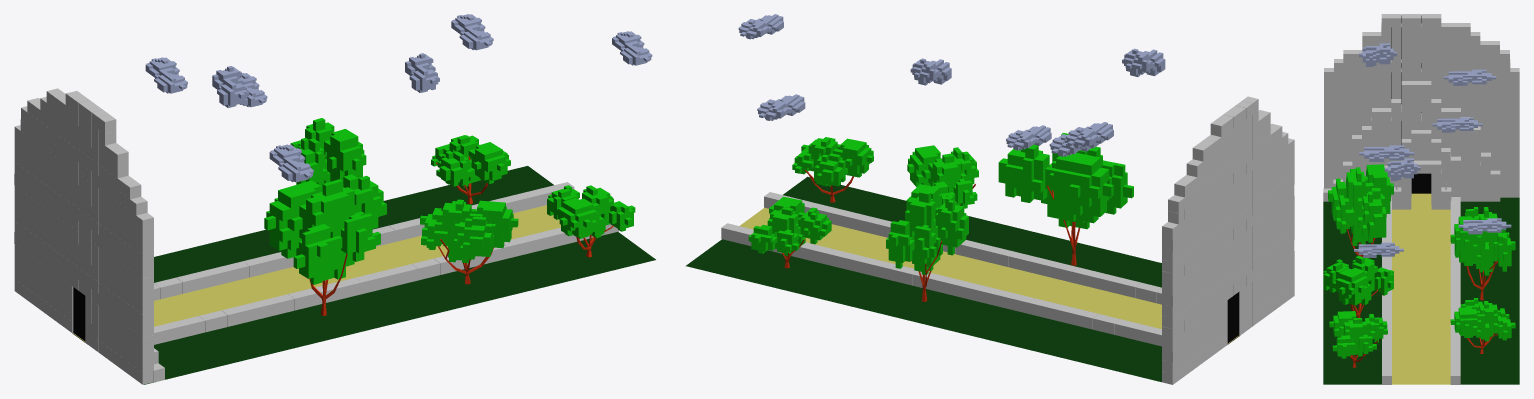
The model's file is forest1.obj.
The picture shows the model from 3 angles, left to right: view 1: azimuth 30°, elevation 25°; view 2: azimuth 150°, elevation 25°; view 3: azimuth 270°, elevation 25°; orthographic projection. The views are drawn at different scales.
Visible parts, largest first — view 1: Plane_Plane, Plane.005_Plane.007, Sphere.010_Sphere.010, Plane.004_Plane.006, Sphere.009_Sphere.005, Sphere.004_Sphere.001, Sphere.012_Sphere.012, Sphere.011_Sphere.011, Sphere.005_Sphere.006, Sphere.001_Sphere.002, Sphere.002_Sphere.003, Sphere_Sphere (+4 smaller); view 2: Plane_Plane, Plane.004_Plane.006, Sphere.010_Sphere.010, Sphere.012_Sphere.012, Plane.005_Plane.007, Sphere.011_Sphere.011, Sphere.009_Sphere.005, Sphere.004_Sphere.001, Sphere.001_Sphere.002, Sphere_Sphere, Sphere.002_Sphere.003, Sphere.007_Sphere.008 (+3 smaller); view 3: Plane.004_Plane.006, Plane_Plane, Plane.005_Plane.007, Sphere.010_Sphere.010, Sphere.012_Sphere.012, Sphere.009_Sphere.005, Sphere.004_Sphere.001, Sphere.011_Sphere.011, Sphere.005_Sphere.006, Sphere.001_Sphere.002, Sphere.002_Sphere.003, Sphere_Sphere (+5 smaller).
Boxes of the visible parts, left/top/right/bottom form: Plane_Plane: left=144, top=166, right=655, bottom=384; Plane.005_Plane.007: left=147, top=216, right=655, bottom=383; Sphere.010_Sphere.010: left=264, top=174, right=386, bottom=284; Plane.004_Plane.006: left=73, top=205, right=560, bottom=341; Sphere.009_Sphere.005: left=420, top=199, right=518, bottom=263; Sphere.004_Sphere.001: left=547, top=185, right=635, bottom=238; Sphere.012_Sphere.012: left=290, top=118, right=366, bottom=191; Sphere.011_Sphere.011: left=431, top=135, right=510, bottom=187; Sphere.005_Sphere.006: left=269, top=144, right=313, bottom=182; Sphere.001_Sphere.002: left=212, top=66, right=249, bottom=107; Sphere.002_Sphere.003: left=145, top=57, right=187, bottom=93; Sphere_Sphere: left=451, top=14, right=493, bottom=50; Plane_Plane: left=686, top=176, right=1161, bottom=382; Plane.004_Plane.006: left=739, top=207, right=1239, bottom=343; Sphere.010_Sphere.010: left=998, top=133, right=1133, bottom=229; Sphere.012_Sphere.012: left=886, top=184, right=968, bottom=274; Plane.005_Plane.007: left=784, top=177, right=1161, bottom=381; Sphere.011_Sphere.011: left=748, top=196, right=831, bottom=255; Sphere.009_Sphere.005: left=907, top=145, right=978, bottom=208; Sphere.004_Sphere.001: left=792, top=137, right=873, bottom=186; Sphere.001_Sphere.002: left=1122, top=48, right=1165, bottom=76; Sphere_Sphere: left=757, top=94, right=805, bottom=120; Sphere.002_Sphere.003: left=1065, top=122, right=1113, bottom=148; Sphere.007_Sphere.008: left=910, top=58, right=951, bottom=85; Plane.004_Plane.006: left=1392, top=193, right=1450, bottom=384; Plane_Plane: left=1323, top=197, right=1519, bottom=384; Plane.005_Plane.007: left=1323, top=197, right=1519, bottom=382; Sphere.010_Sphere.010: left=1328, top=164, right=1393, bottom=245; Sphere.012_Sphere.012: left=1450, top=207, right=1515, bottom=275; Sphere.009_Sphere.005: left=1323, top=255, right=1393, bottom=305; Sphere.004_Sphere.001: left=1329, top=311, right=1387, bottom=358; Sphere.011_Sphere.011: left=1450, top=298, right=1515, bottom=341; Sphere.005_Sphere.006: left=1359, top=145, right=1414, bottom=161; Sphere.001_Sphere.002: left=1359, top=43, right=1396, bottom=66; Sphere.002_Sphere.003: left=1443, top=69, right=1496, bottom=85; Sphere_Sphere: left=1458, top=218, right=1511, bottom=234.
Size of the model in its own units: 48.18 by 22.06 by 19.93.
